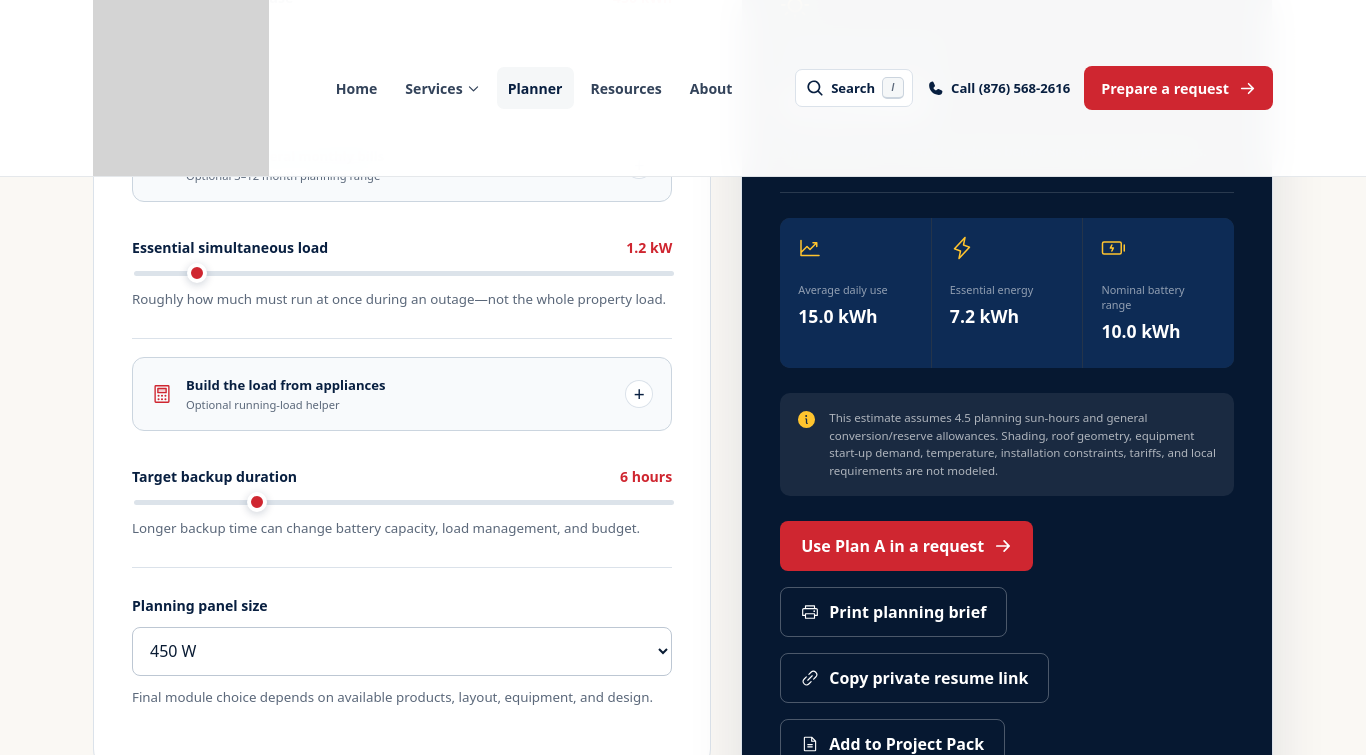
Test: Matken customer journeys › rejects an appliance load above the planner range without changing the authoritative slider
(page scrolled)
Step 1. Click the text "Build the load from appliances" → (286, 385), box [186,376,386,394]
(page scrolled)
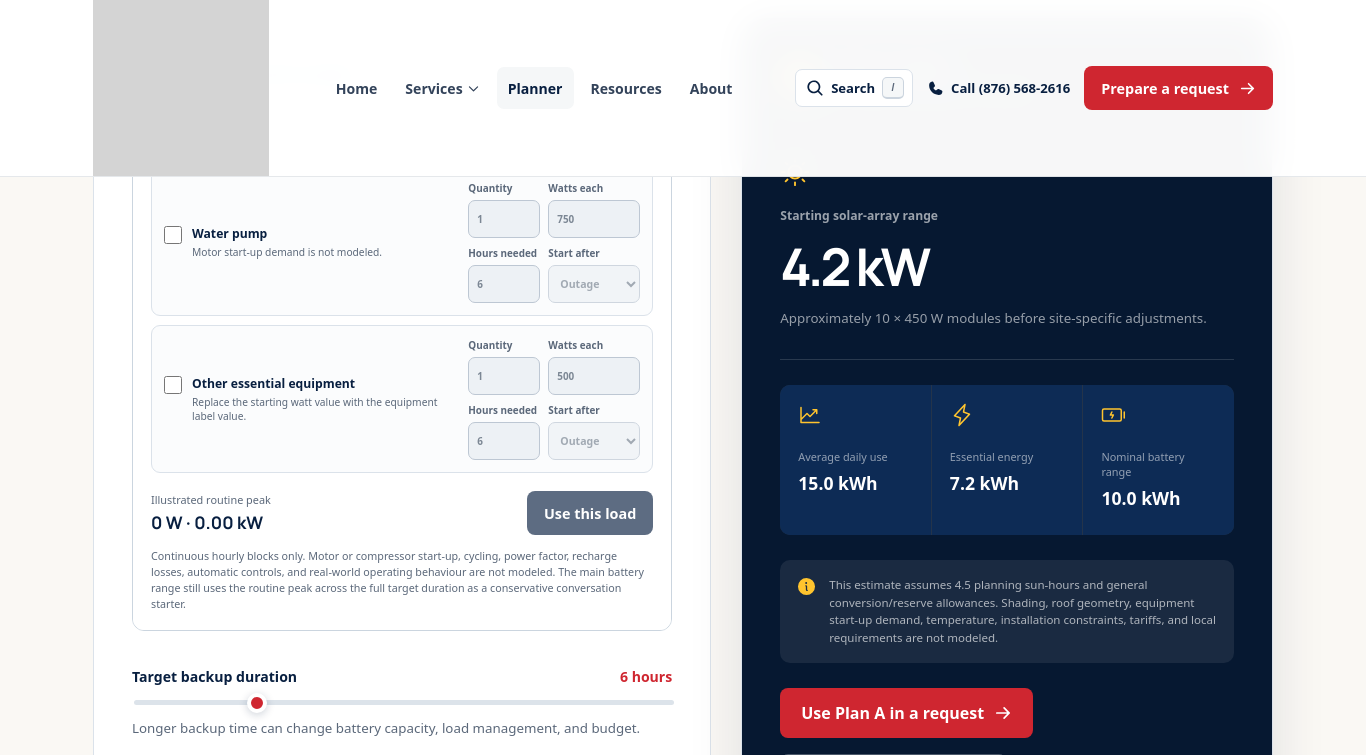
Step 2. Click the checkbox labelled "Other essential equipment" → (173, 385), box [164,376,182,394]
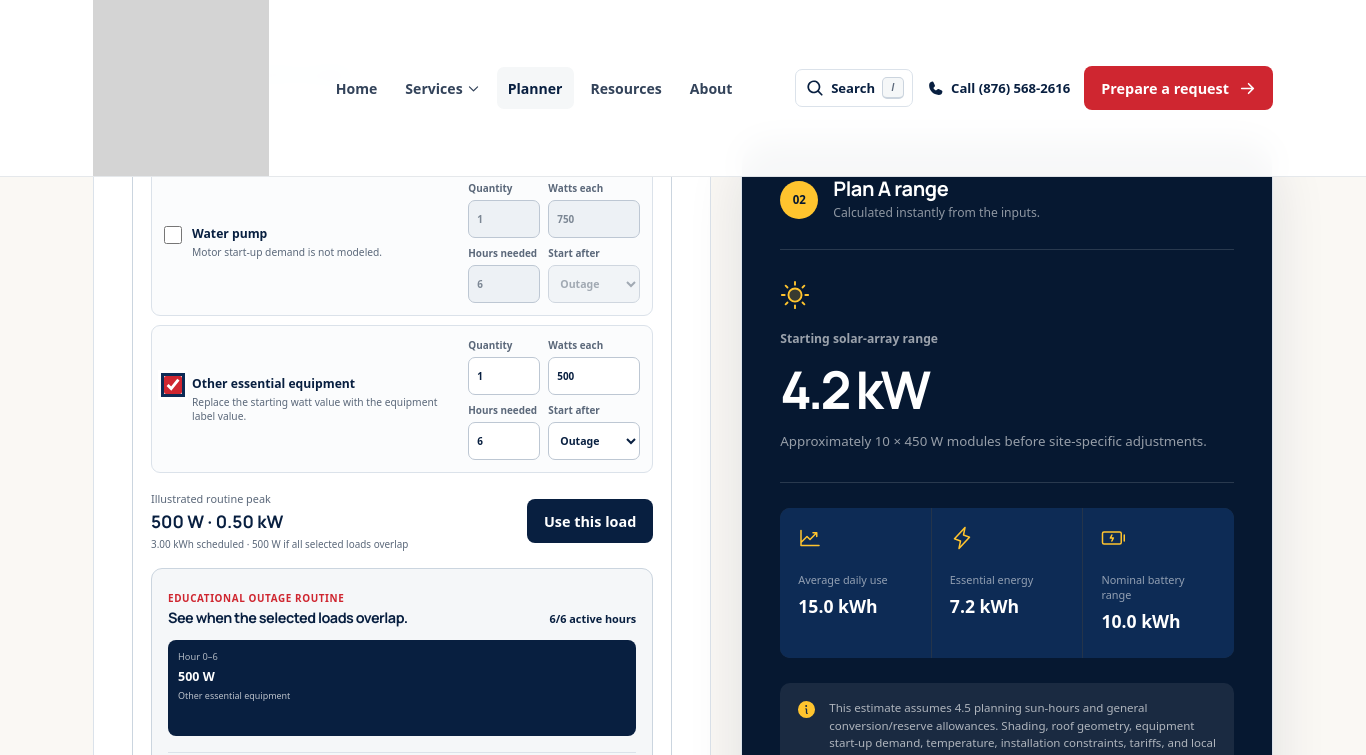
Step 3. Replace the text in the number field named "Quantity for Other essential equipment" with "3" → (504, 376), box [468,357,540,395]
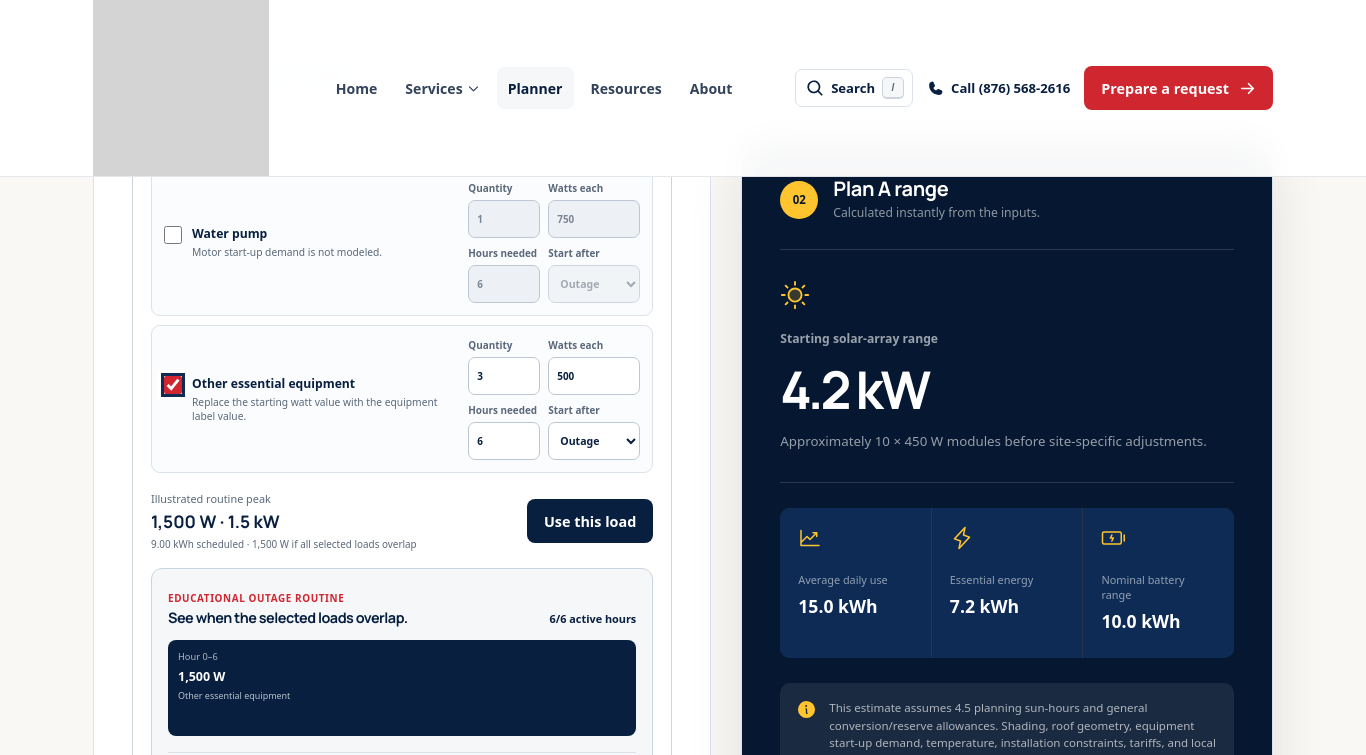
Step 4. Replace the text in the number field named "Watts for Other essential equipment" with "5000" → (594, 376), box [548,357,640,395]
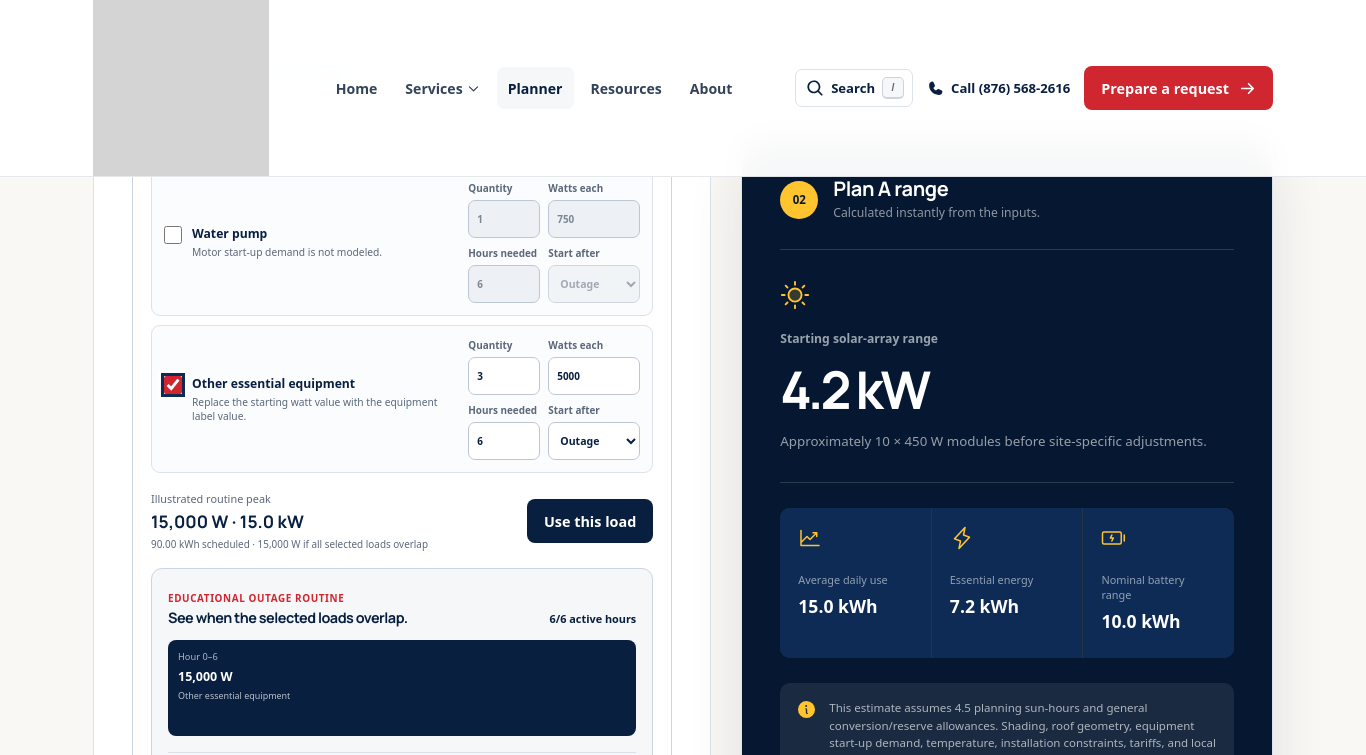
Step 5. Click the button "Use this load" → (590, 521), box [527,499,653,543]
(page scrolled)
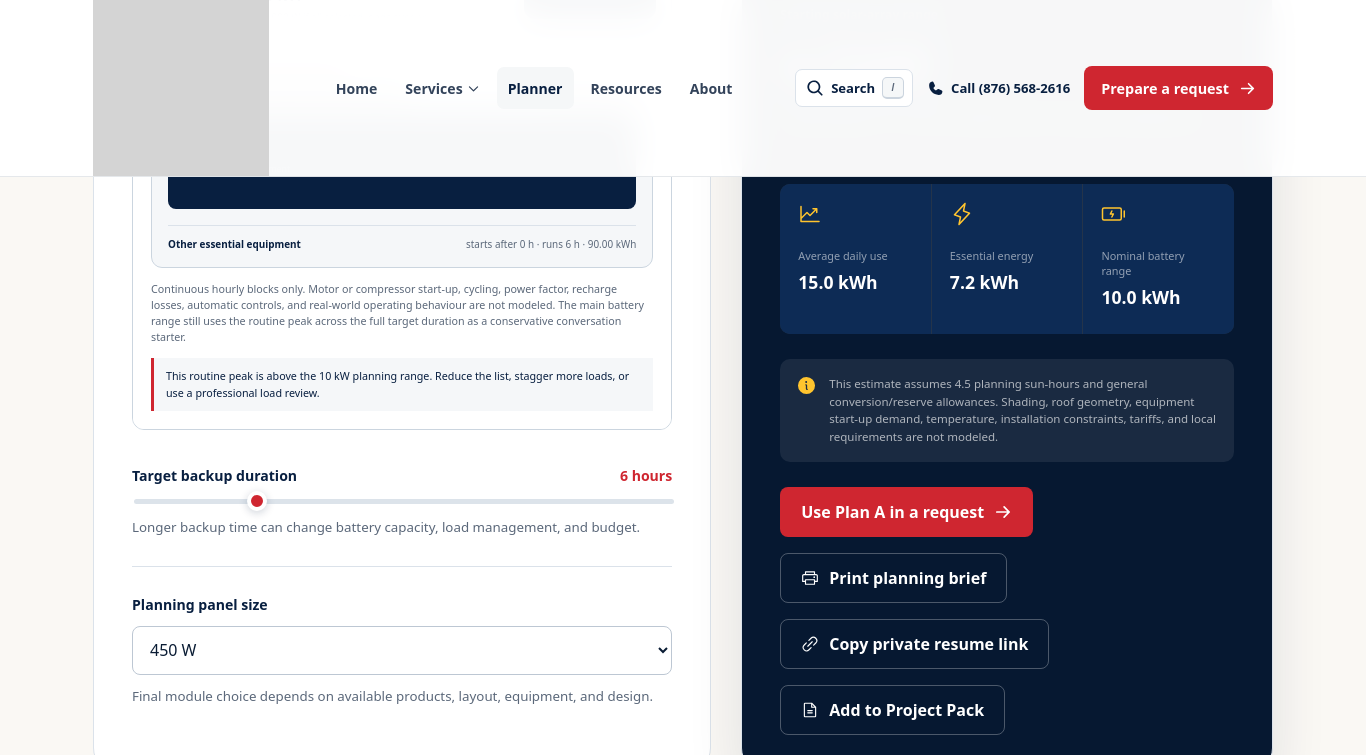
Result: the text "above the 10 kW planning range" is shown at [166,369,629,400]
